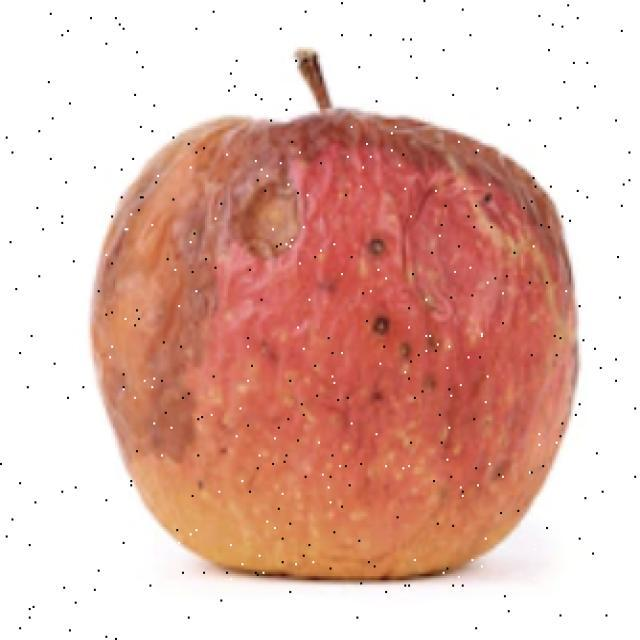Rotten: (120, 115, 567, 575)
